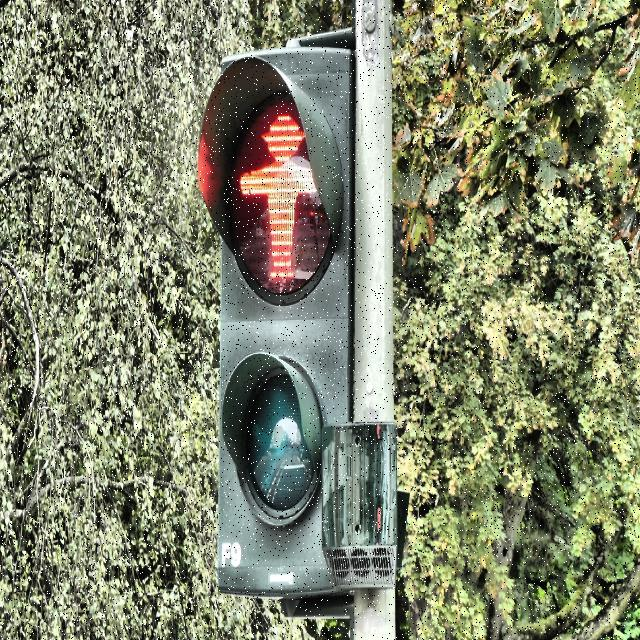red_light: (238, 105, 326, 284)
